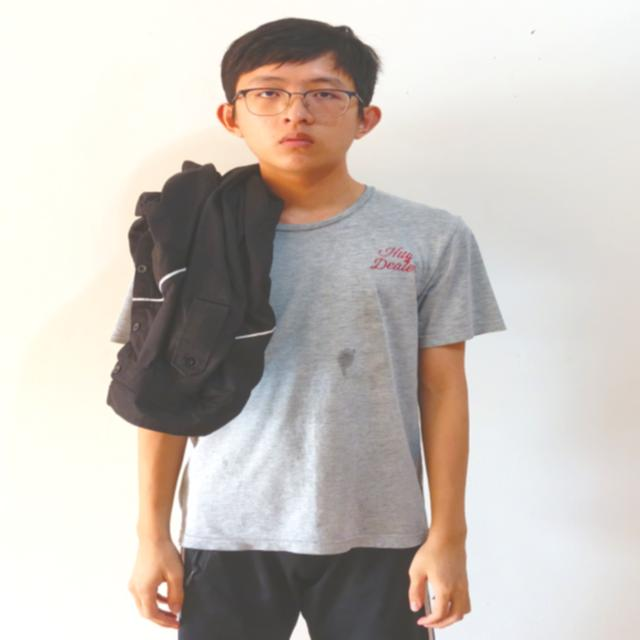person_without_labcoat: (129, 19, 504, 640)
